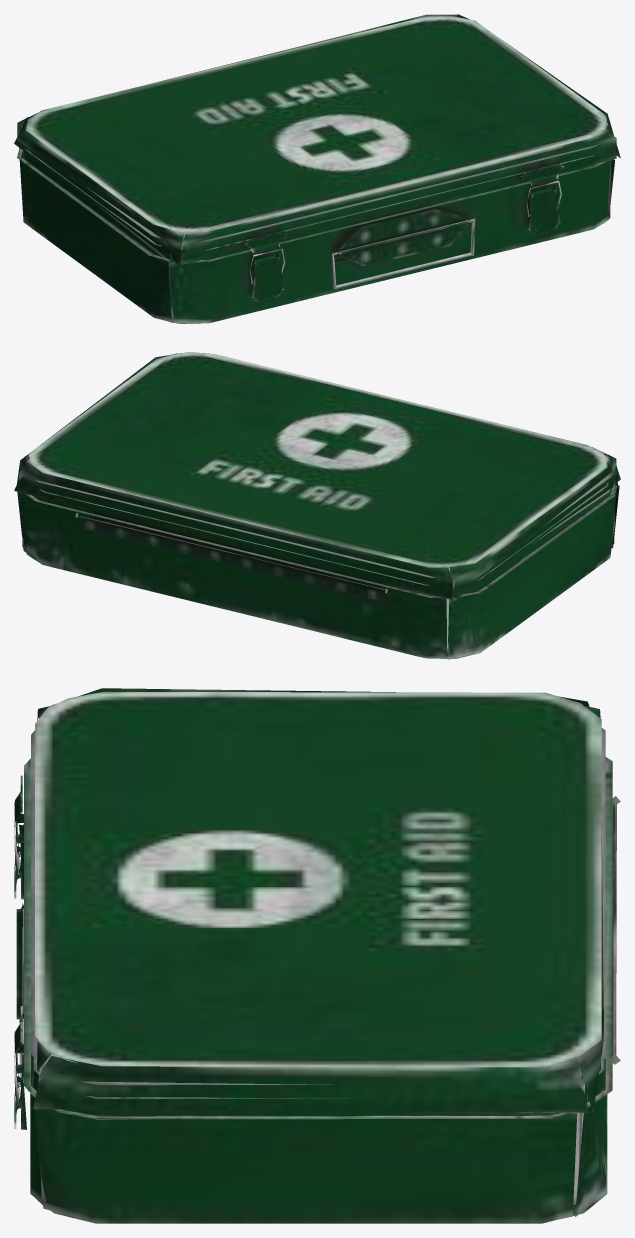
The model's file is medical_box.glb.
3 views of the same model, one above another, from view 1: azimuth 30°, elevation 25°; view 2: azimuth 150°, elevation 25°; view 3: azimuth 270°, elevation 25° (orthographic). The views are drawn at different scales.
Parts seen in each view (by area): view 1: medical_box_latch; view 2: medical_box_latch; view 3: medical_box_latch.
Part boxes in pixels (x1,y1,x2,y2): medical_box_latch: [14, 14, 620, 323]; medical_box_latch: [14, 352, 620, 659]; medical_box_latch: [14, 688, 620, 1223].
Bounding box in the file's own units: 0.5237 × 0.0992 × 0.3467.
1 material, 1 textured.
